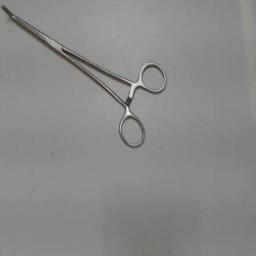Lahey Forceps: (1, 2, 169, 150)
